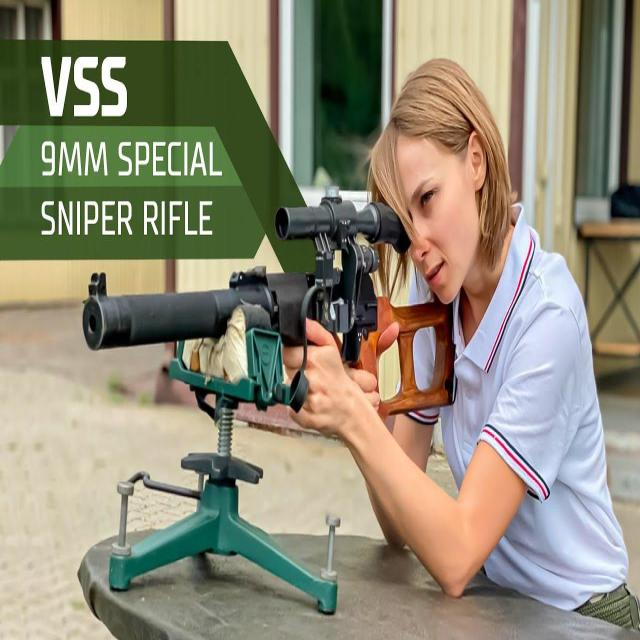weapon: (84, 192, 456, 425)
